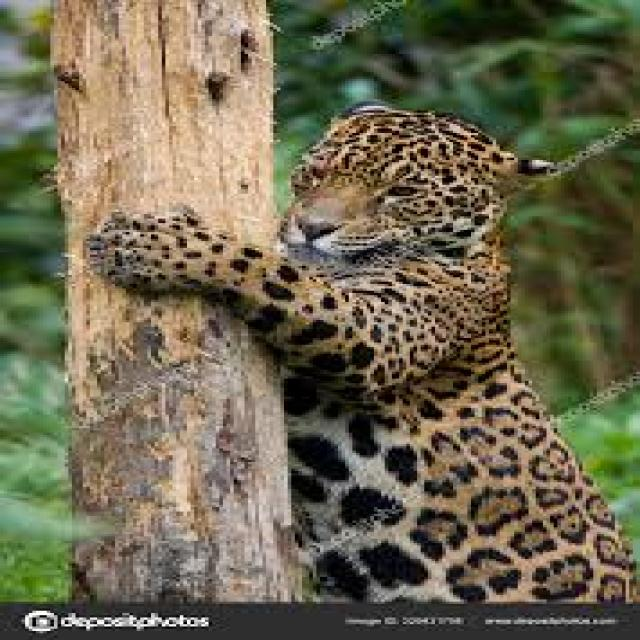Jaguar: (75, 94, 640, 601)
